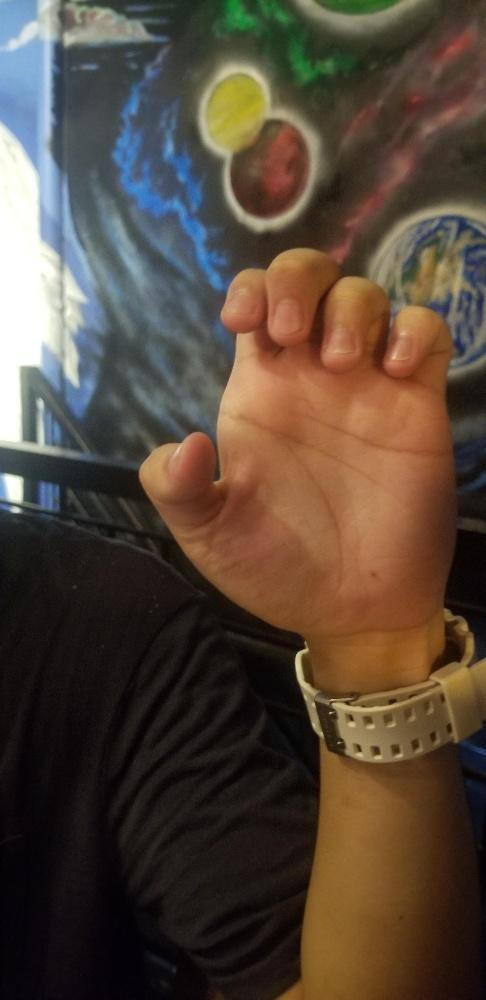e: (134, 241, 460, 633)
